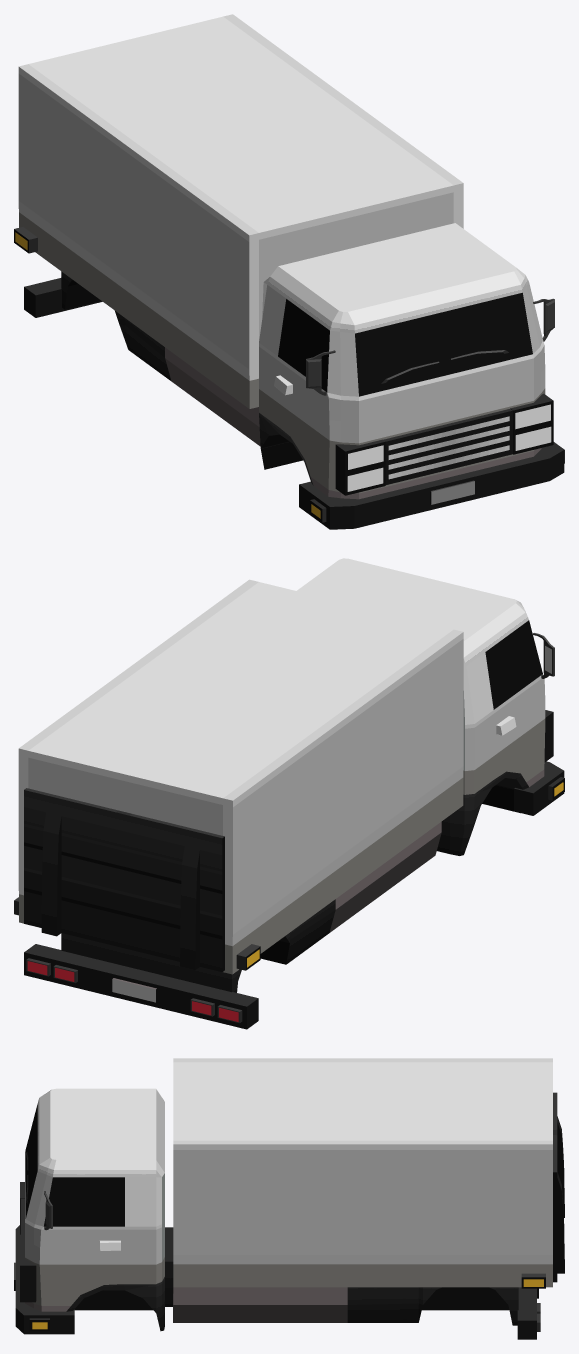
Rendered from Truck.fbx.
3 renders of one model, top to bottom at view 1: azimuth 30°, elevation 25°; view 2: azimuth 150°, elevation 25°; view 3: azimuth 270°, elevation 25°, orthographic. The views are drawn at different scales.
Visible parts, largest first — view 1: Truck; view 2: Truck; view 3: Truck.
Boxes of the visible parts, x1,y1,x2,y2 form: Truck: (14, 14, 564, 529); Truck: (14, 558, 564, 1029); Truck: (14, 1058, 564, 1339).
Bounding box in the file's own units: 2.25 × 2.03 × 5.25.
